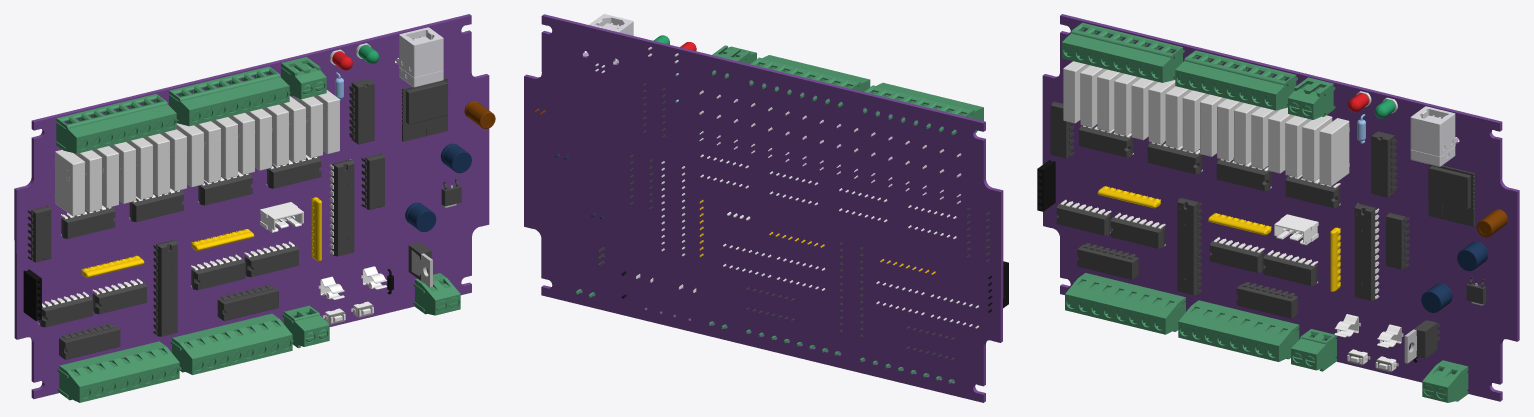
Rendered from 3D_PCB_32-R-DC.glb.
3 views of the same model, side by side, from view 1: azimuth 30°, elevation 25°; view 2: azimuth 150°, elevation 25°; view 3: azimuth 330°, elevation 25° (orthographic).
Visible parts, largest first — view 1: Board~cbci, U1~CONN-TH_8P-P500_DB128V-50-8P~CONN-TH_8P-P500_DB128V-50-8P (×4), OPT8~PDIP-16_L197-W66-P254-LS76-BL~PDIP-16_L197-W66-H51-P254 (×8), RN7~DIP-16_L220-W67-P254-LS76-BL~DIP-16_L220-W67-P254-LS76-B (×3), MCP1~DIP-28_L346-W73-P254-LS102-BL~DIP-28_L346-W73-H46-P254- (×2), H3~CONN-TH_2P-P508_DB128L-508-2P~CONN-TH_2P-P508_DB128L-508- (×4), U4~BULETM-SMD_18P-L200-W180-P150_ESP32-C3-WROOM~BULETM-SMD_1, USB2~USB-B-TH_HX-TYPE-BF-90~USB-B-TH_HX-TYPE-BF-90~cbci_5, RLY1~RELAY-TH_7-1461491-6~RELAY-TH_7-1461491-6~cbci_13, H7~CONN-TH_2P-P508_DB128L-508-2P~CONN-TH_2P_L105-W102-P508~c (×2), RN8~RES-ARRAY-TH_9P-L228-W300-P254~RES-ARRAY-TH_9P-L228-W300 (×2), RN6~DIP-16_L220-W67-P254-LS76-BL~DIP-16_L192-W66-H33-LS762-P (+26 smaller); view 2: Board~cbci, U1~CONN-TH_8P-P500_DB128V-50-8P~CONN-TH_8P-P500_DB128V-50-8P (×2), USB2~USB-B-TH_HX-TYPE-BF-90~USB-B-TH_HX-TYPE-BF-90~cbci_5; view 3: Board~cbci, U1~CONN-TH_8P-P500_DB128V-50-8P~CONN-TH_8P-P500_DB128V-50-8P (×4), OPT8~PDIP-16_L197-W66-P254-LS76-BL~PDIP-16_L197-W66-H51-P254 (×8), RN7~DIP-16_L220-W67-P254-LS76-BL~DIP-16_L220-W67-P254-LS76-B (×3), MCP1~DIP-28_L346-W73-P254-LS102-BL~DIP-28_L346-W73-H46-P254- (×2), H3~CONN-TH_2P-P508_DB128L-508-2P~CONN-TH_2P-P508_DB128L-508- (×4), U4~BULETM-SMD_18P-L200-W180-P150_ESP32-C3-WROOM~BULETM-SMD_1, RLY1~RELAY-TH_7-1461491-6~RELAY-TH_7-1461491-6~cbci_15, USB2~USB-B-TH_HX-TYPE-BF-90~USB-B-TH_HX-TYPE-BF-90~cbci_5, H7~CONN-TH_2P-P508_DB128L-508-2P~CONN-TH_2P_L105-W102-P508~c (×2), RN8~RES-ARRAY-TH_9P-L228-W300-P254~RES-ARRAY-TH_9P-L228-W300 (×2), RN5~DIP-16_L220-W67-P254-LS76-BL~DIP-16_L192-W66-H33-LS762-P (+26 smaller).
Part boxes in pixels (bbox=[...]): Board~cbci: bbox=[14, 14, 489, 398]; U1~CONN-TH_8P-P500_DB128V-50-8P~CONN-TH_8P-P500_DB128V-50-8P (×4): bbox=[56, 66, 292, 402]; OPT8~PDIP-16_L197-W66-P254-LS76-BL~PDIP-16_L197-W66-H51-P254 (×8): bbox=[39, 157, 321, 327]; RN7~DIP-16_L220-W67-P254-LS76-BL~DIP-16_L220-W67-P254-LS76-B (×3): bbox=[59, 78, 374, 359]; MCP1~DIP-28_L346-W73-P254-LS102-BL~DIP-28_L346-W73-H46-P254- (×2): bbox=[156, 160, 354, 336]; H3~CONN-TH_2P-P508_DB128L-508-2P~CONN-TH_2P-P508_DB128L-508- (×4): bbox=[281, 57, 329, 348]; U4~BULETM-SMD_18P-L200-W180-P150_ESP32-C3-WROOM~BULETM-SMD_1: bbox=[402, 77, 448, 141]; USB2~USB-B-TH_HX-TYPE-BF-90~USB-B-TH_HX-TYPE-BF-90~cbci_5: bbox=[395, 27, 443, 77]; RLY1~RELAY-TH_7-1461491-6~RELAY-TH_7-1461491-6~cbci_13: bbox=[54, 149, 84, 216]; H7~CONN-TH_2P-P508_DB128L-508-2P~CONN-TH_2P_L105-W102-P508~c (×2): bbox=[413, 273, 460, 315]; RN8~RES-ARRAY-TH_9P-L228-W300-P254~RES-ARRAY-TH_9P-L228-W300 (×2): bbox=[81, 197, 321, 277]; RN6~DIP-16_L220-W67-P254-LS76-BL~DIP-16_L192-W66-H33-LS762-P: bbox=[27, 205, 51, 262]; Board~cbci: bbox=[524, 14, 1003, 402]; U1~CONN-TH_8P-P500_DB128V-50-8P~CONN-TH_8P-P500_DB128V-50-8P (×2): bbox=[749, 55, 983, 135]; USB2~USB-B-TH_HX-TYPE-BF-90~USB-B-TH_HX-TYPE-BF-90~cbci_5: bbox=[583, 14, 633, 64]; Board~cbci: bbox=[1042, 14, 1519, 401]; U1~CONN-TH_8P-P500_DB128V-50-8P~CONN-TH_8P-P500_DB128V-50-8P (×4): bbox=[1062, 22, 1299, 361]; OPT8~PDIP-16_L197-W66-P254-LS76-BL~PDIP-16_L197-W66-H51-P254 (×8): bbox=[1056, 125, 1340, 285]; RN7~DIP-16_L220-W67-P254-LS76-BL~DIP-16_L220-W67-P254-LS76-B (×3): bbox=[1077, 131, 1397, 318]; MCP1~DIP-28_L346-W73-P254-LS102-BL~DIP-28_L346-W73-H46-P254- (×2): bbox=[1177, 198, 1376, 300]; H3~CONN-TH_2P-P508_DB128L-508-2P~CONN-TH_2P-P508_DB128L-508- (×4): bbox=[1288, 77, 1336, 371]; U4~BULETM-SMD_18P-L200-W180-P150_ESP32-C3-WROOM~BULETM-SMD_1: bbox=[1428, 164, 1474, 226]; RLY1~RELAY-TH_7-1461491-6~RELAY-TH_7-1461491-6~cbci_15: bbox=[1319, 118, 1349, 185]; USB2~USB-B-TH_HX-TYPE-BF-90~USB-B-TH_HX-TYPE-BF-90~cbci_5: bbox=[1410, 106, 1458, 156]; H7~CONN-TH_2P-P508_DB128L-508-2P~CONN-TH_2P_L105-W102-P508~c (×2): bbox=[1422, 360, 1468, 402]; RN8~RES-ARRAY-TH_9P-L228-W300-P254~RES-ARRAY-TH_9P-L228-W300 (×2): bbox=[1097, 186, 1340, 291]; RN5~DIP-16_L220-W67-P254-LS76-BL~DIP-16_L192-W66-H33-LS762-P: bbox=[1386, 212, 1409, 269].
Bounding box in the file's own units: 189 × 106 × 23.36.
